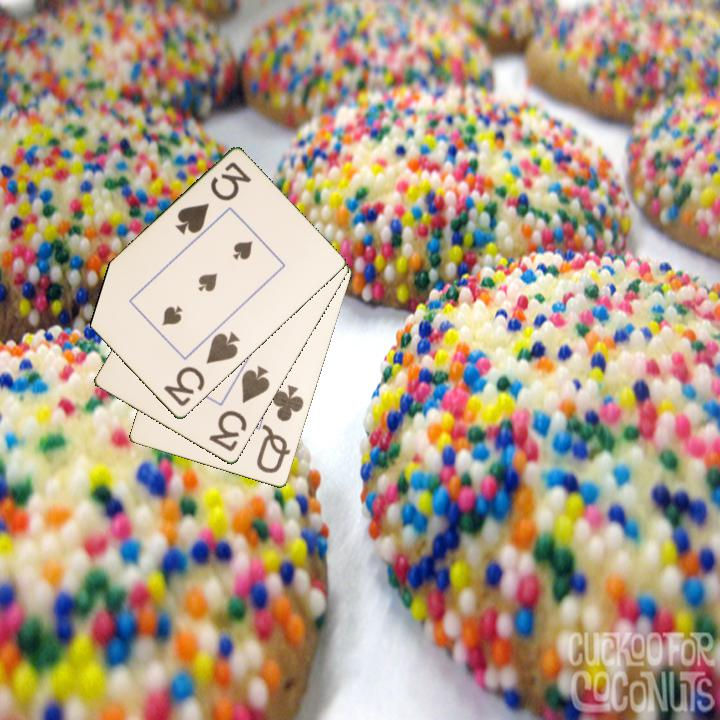3s: (160, 328, 243, 410), (171, 159, 254, 239), (205, 362, 273, 455)
Qc: (253, 382, 307, 477)
